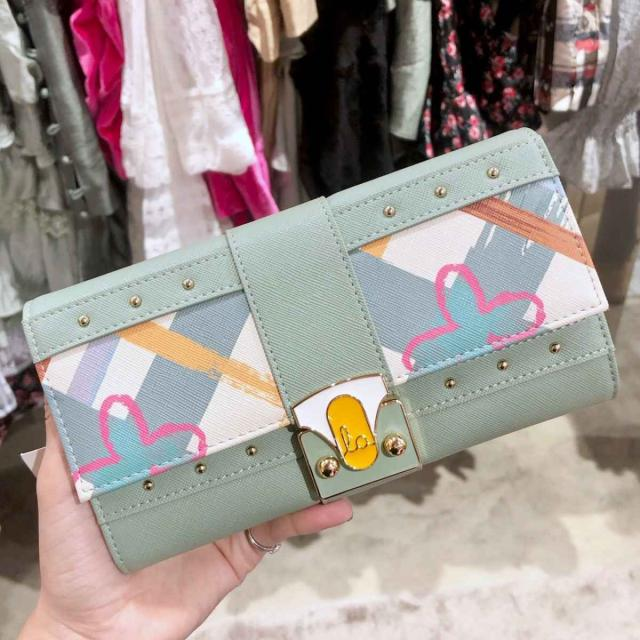Handbag: (8, 111, 636, 571)
